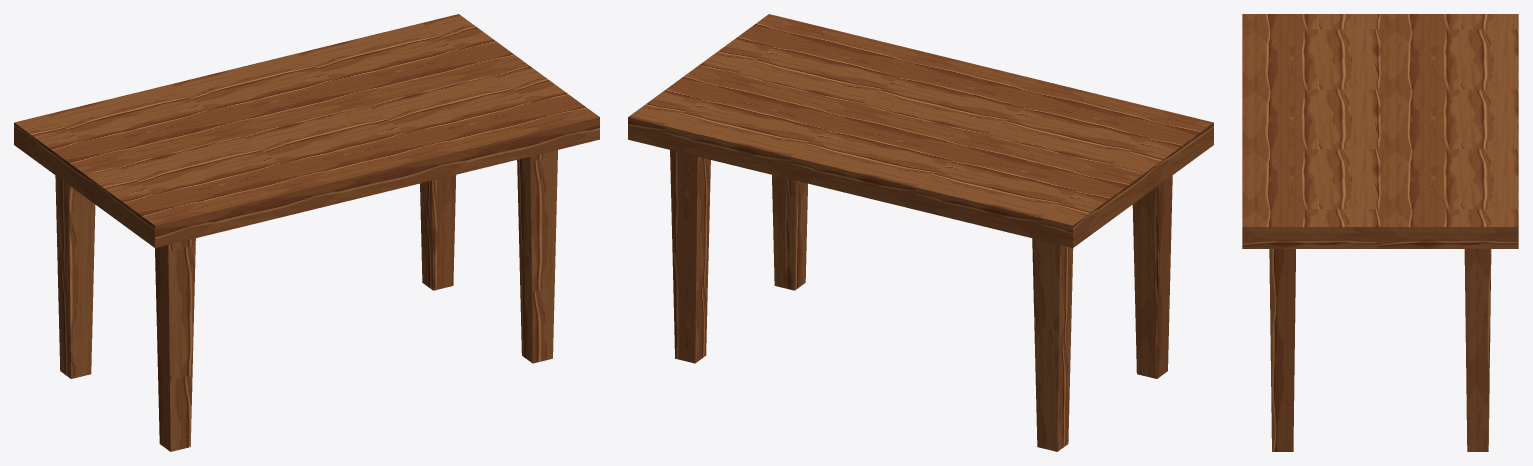
File: ARC0710021.fbx
3 renders of one model, left to right at view 1: azimuth 30°, elevation 25°; view 2: azimuth 150°, elevation 25°; view 3: azimuth 270°, elevation 25°, orthographic.
Visible parts, largest first — view 1: smARC0710021; view 2: smARC0710021; view 3: smARC0710021.
Boxes of the visible parts, x1=… form: smARC0710021: x1=14, y1=14, x2=599, y2=451; smARC0710021: x1=628, y1=14, x2=1213, y2=451; smARC0710021: x1=1242, y1=14, x2=1518, y2=451.
Size of the model in its own units: 162 by 85.19 by 88.91.
Materials: 1 (1 with a texture image).
